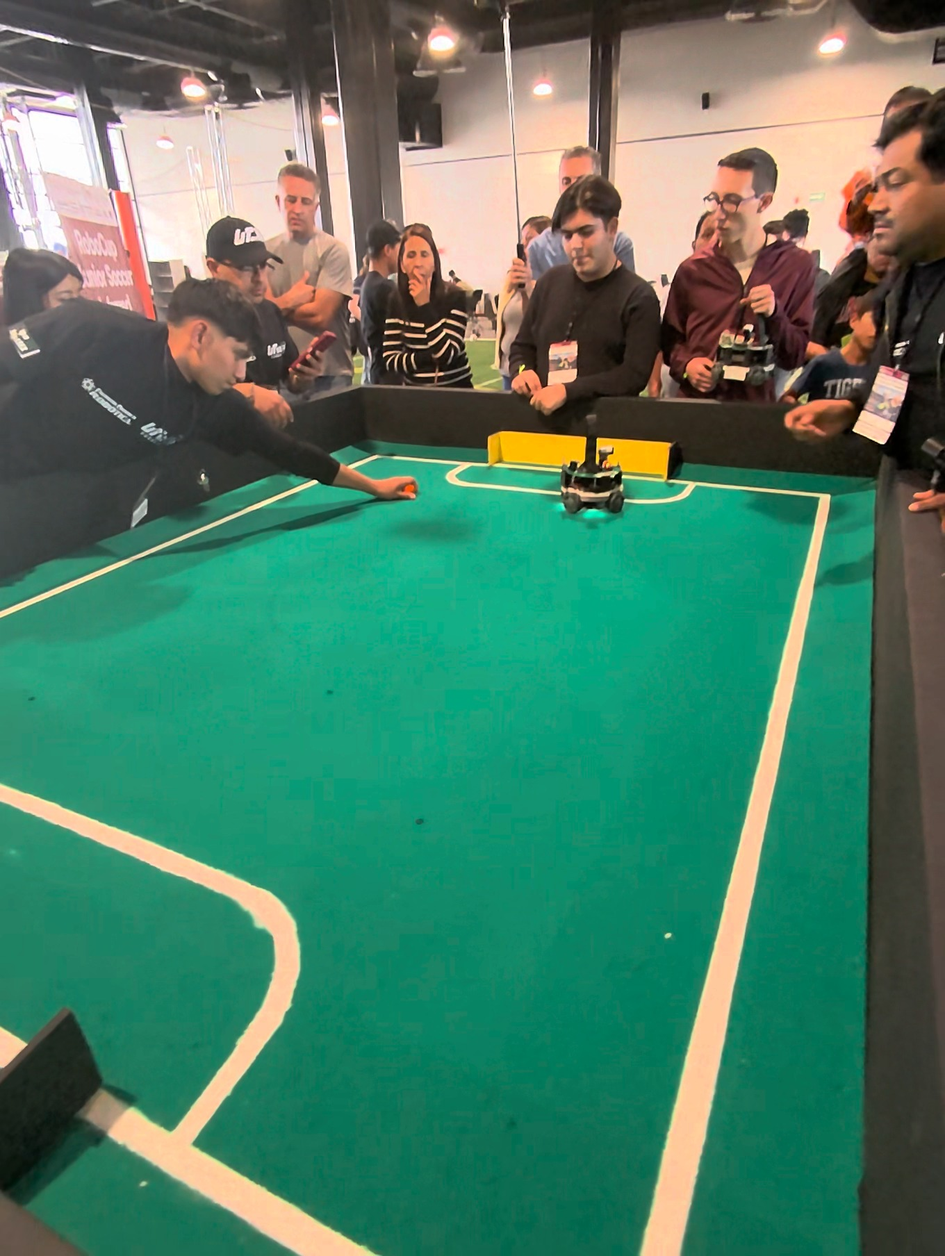Robot: (553, 416, 627, 525)
